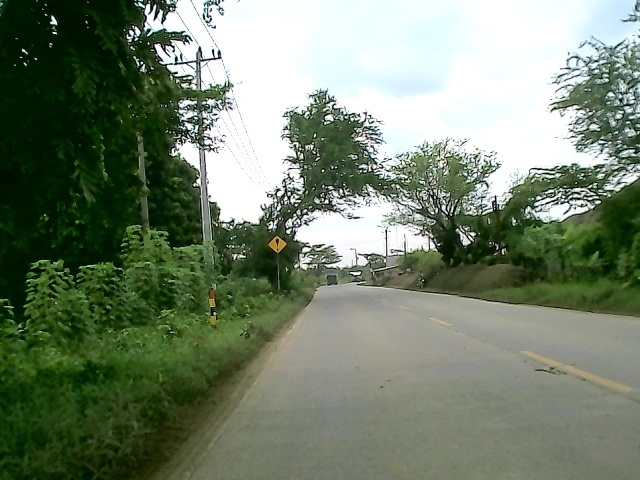Hati-hati: (267, 236, 289, 254)
